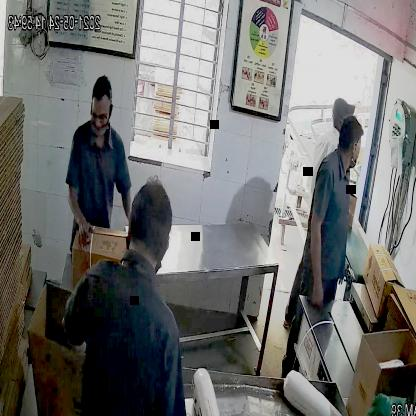goggles: (90, 101, 112, 129)
